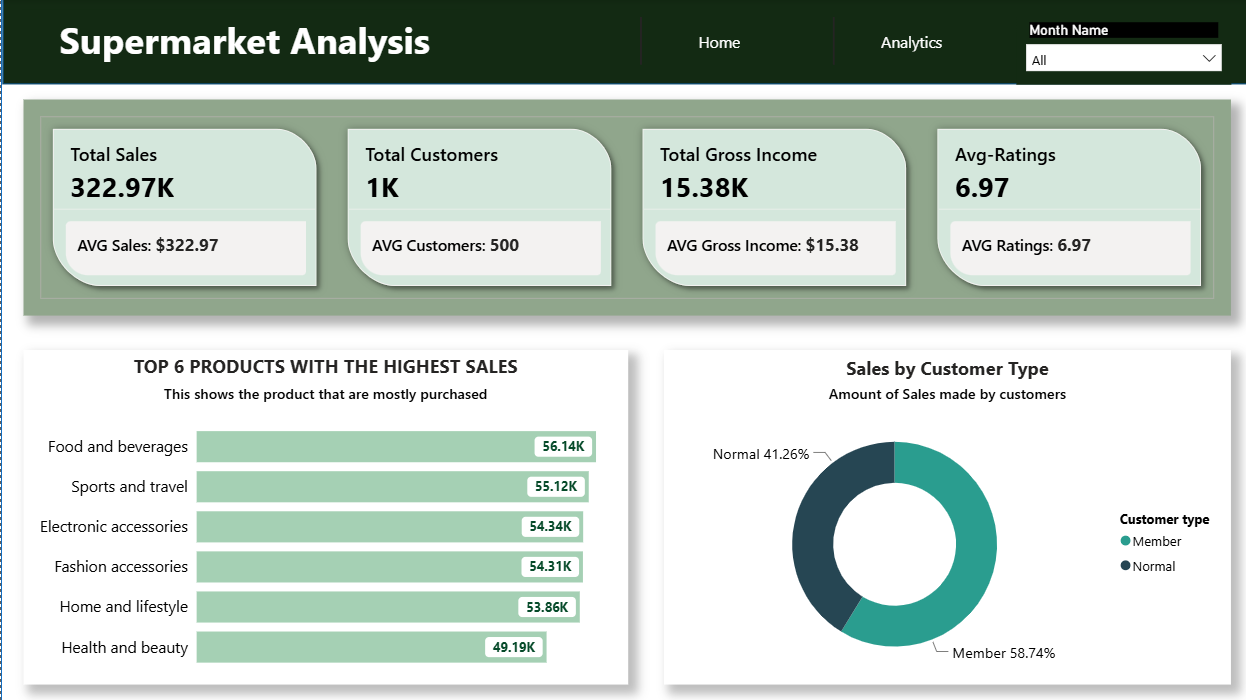

Layout of this report page (visuals, bound fields, positions):
{"tool":"powerbi","page":{"name":"Home","canvas":[1280,720],"ordinal":0},"visuals":[{"type":"shape","box":[0,0,1279.7,720.5],"z":0},{"type":"cardVisual","fields":{"Data":["Measures (2).Total Sales","Measures (2).Total Profit","Measures (2).Total Gross Income","Measures (2).Avg-Ratings"]},"box":[23,102.9,1236.7,221.2],"z":1000},{"type":"barChart","title":"TOP 6 PRODUCTS WITH THE HIGHEST SALES","fields":{"Category":["Supermarket Analysis.Product line"],"Y":["Sum(Supermarket Analysis.Sales)"]},"box":[23,359.5,619.1,342.6],"z":2000},{"type":"donutChart","title":"Sales by Customer Type","fields":{"Category":["Supermarket Analysis.Customer type"],"Y":["Sum(Supermarket Analysis.Sales)"]},"box":[679,359.5,580.7,342.6],"z":3000},{"type":"shape","box":[1.8,0,1278.2,87.6],"z":4000,"group":"g1"},{"type":"textbox","box":[21.5,10.8,456.3,63],"z":5000,"group":"g1"},{"type":"pageNavigator","box":[654.5,18.4,385.6,49.2],"z":6000,"group":"g1"},{"type":"slicer","fields":{"Values":["Date.Month Name"]},"box":[1040.1,18.4,219.7,69.1],"z":7000,"group":"g1"},{"type":"group","id":"g1","title":"Group 1","box":[1.8,0,1278.2,87.6],"z":7001}]}

Visuals, with their boxes in screenshot pixels (x1, y1, x2, y2), scaled from the page's 1280x720 canvas onto the 1246x700 screenshot:
shape: [0, 0, 1245, 699]
cardVisual - Measures (2).Total Sales x Measures (2).Total Profit: [22, 100, 1226, 315]
"TOP 6 PRODUCTS WITH THE HIGHEST SALES" barChart: [22, 350, 625, 683]
"Sales by Customer Type" donutChart: [661, 350, 1226, 683]
shape: [2, 0, 1245, 85]
textbox: [21, 10, 465, 72]
pageNavigator: [637, 18, 1012, 66]
slicer - Date.Month Name: [1012, 18, 1226, 85]
"Group 1" group: [2, 0, 1245, 85]
